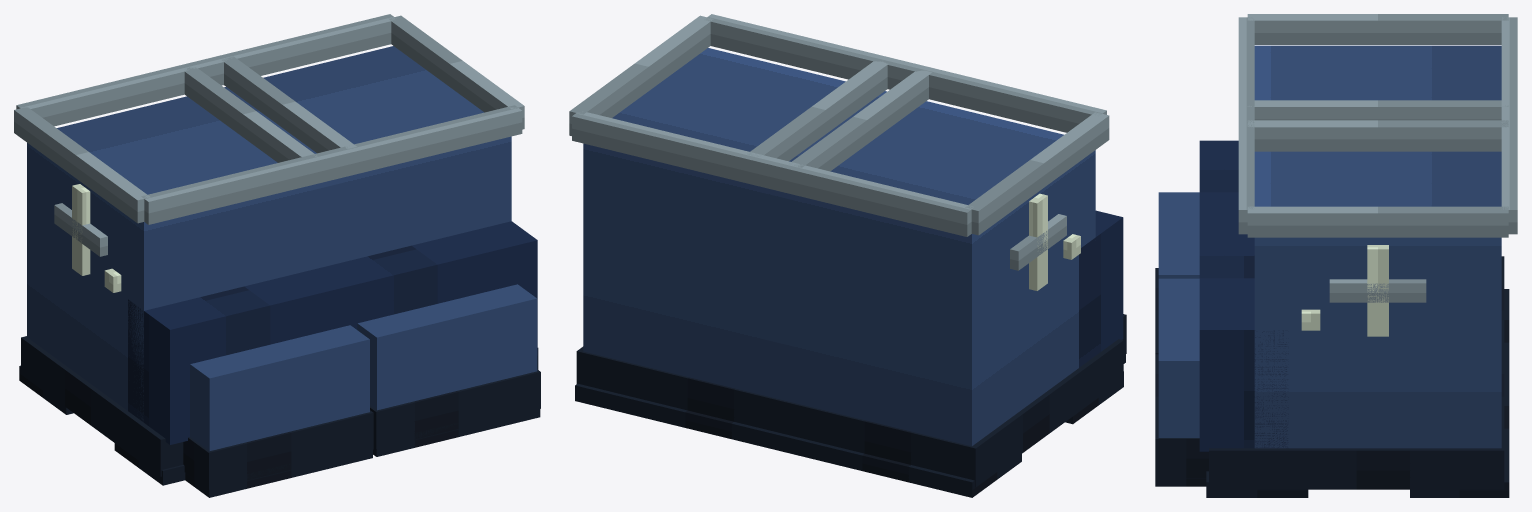
Rendered from yuanying_xinghe_boots.obj.
3 views of the same model, side by side, from view 1: azimuth 30°, elevation 25°; view 2: azimuth 150°, elevation 25°; view 3: azimuth 270°, elevation 25° (orthographic). The views are drawn at different scales.
Parts seen in each view (by area): view 1: boot_shaft_-1, boot_shaft_1, boot_instep_-1, boot_toe_cap_-1, boot_toe_cap_1, boot_instep_1, boot_toe_welt_-1, boot_welt_-1, boot_cuff_front_-1, boot_toe_welt_1, boot_cuff_front_1, boot_cuff_back_1 (+10 smaller); view 2: boot_shaft_-1, boot_shaft_1, boot_welt_-1, boot_welt_1, boot_cuff_back_-1, boot_cuff_back_1, boot_instep_-1, boot_cuff_front_-1, boot_cuff_front_1, boot_cuff_side_-1_-1, boot_cuff_side_1_1, boot_cuff_side_-1_1 (+5 smaller); view 3: boot_shaft_1, boot_shaft_-1, boot_welt_1, boot_instep_1, boot_cuff_side_1_1, boot_cuff_side_1_-1, boot_cuff_side_-1_-1, boot_toe_cap_1, boot_cuff_side_-1_1, boot_instep_-1, boot_toe_cap_-1, boot_toe_welt_1 (+11 smaller).
Part boxes in pixels (x1=…): boot_shaft_-1: x1=27, y1=96, x2=344, y2=421; boot_shaft_1: x1=224, y1=46, x2=511, y2=269; boot_instep_-1: x1=128, y1=262, x2=370, y2=444; boot_toe_cap_-1: x1=190, y1=325, x2=369, y2=451; boot_toe_cap_1: x1=357, y1=284, x2=537, y2=410; boot_instep_1: x1=312, y1=221, x2=537, y2=355; boot_toe_welt_-1: x1=183, y1=410, x2=373, y2=489; boot_welt_-1: x1=21, y1=336, x2=183, y2=476; boot_cuff_front_-1: x1=141, y1=146, x2=354, y2=224; boot_toe_welt_1: x1=370, y1=369, x2=540, y2=448; boot_cuff_front_1: x1=309, y1=105, x2=522, y2=183; boot_cuff_back_1: x1=184, y1=14, x2=396, y2=84; boot_shaft_-1: x1=760, y1=91, x2=1095, y2=446; boot_shaft_1: x1=583, y1=48, x2=845, y2=402; boot_welt_-1: x1=753, y1=339, x2=1123, y2=487; boot_welt_1: x1=576, y1=346, x2=798, y2=437; boot_cuff_back_-1: x1=748, y1=154, x2=973, y2=236; boot_cuff_back_1: x1=572, y1=111, x2=797, y2=192; boot_instep_-1: x1=1079, y1=210, x2=1123, y2=367; boot_cuff_front_-1: x1=885, y1=57, x2=1106, y2=132; boot_cuff_front_1: x1=704, y1=14, x2=928, y2=79; boot_cuff_side_-1_-1: x1=965, y1=112, x2=1109, y2=235; boot_cuff_side_1_1: x1=569, y1=15, x2=713, y2=135; boot_cuff_side_-1_1: x1=789, y1=70, x2=931, y2=171; boot_shaft_1: x1=1254, y1=151, x2=1501, y2=448; boot_shaft_-1: x1=1254, y1=45, x2=1501, y2=100; boot_welt_1: x1=1209, y1=342, x2=1504, y2=489; boot_instep_1: x1=1199, y1=244, x2=1288, y2=451; boot_cuff_side_1_1: x1=1247, y1=206, x2=1508, y2=237; boot_cuff_side_1_-1: x1=1247, y1=120, x2=1508, y2=151; boot_cuff_side_-1_-1: x1=1247, y1=14, x2=1508, y2=44; boot_toe_cap_1: x1=1158, y1=278, x2=1199, y2=437; boot_cuff_side_-1_1: x1=1247, y1=100, x2=1508, y2=120; boot_instep_-1: x1=1199, y1=140, x2=1254, y2=243; boot_toe_cap_-1: x1=1158, y1=192, x2=1199, y2=278; boot_toe_welt_1: x1=1155, y1=354, x2=1208, y2=477.
Size of the model in its own units: 0.5494 by 0.3694 by 0.4219.
